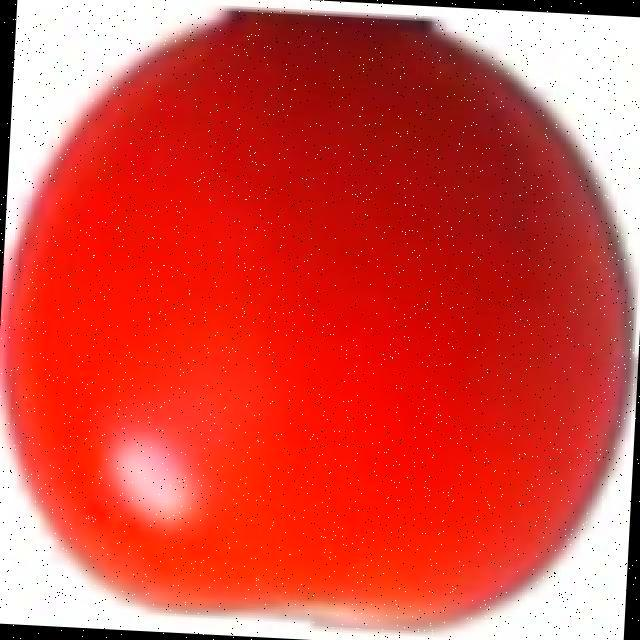tomato: (2, 9, 631, 635)
